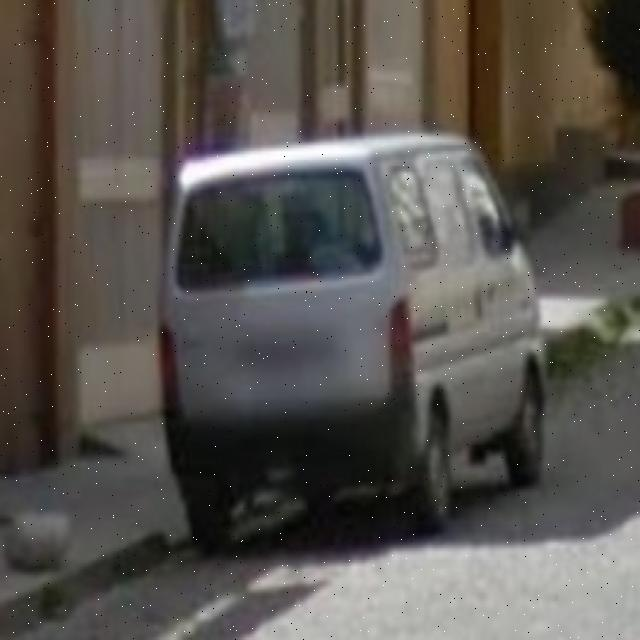cars: (161, 133, 549, 527)
